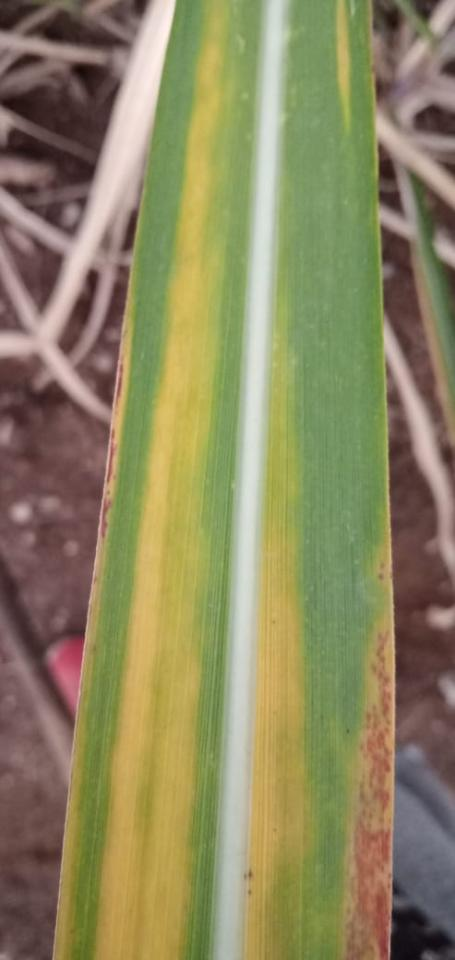Rust: (343, 703, 395, 959), (100, 488, 113, 545), (374, 630, 391, 672), (106, 428, 118, 486), (377, 684, 393, 727), (114, 355, 125, 408), (369, 662, 391, 687), (379, 563, 385, 570), (378, 573, 384, 580)
Yellow: (92, 0, 230, 959), (245, 214, 343, 959), (53, 540, 109, 959), (105, 296, 133, 540), (368, 565, 393, 659), (337, 0, 351, 134), (378, 491, 391, 564), (368, 677, 379, 705), (385, 642, 393, 677)
